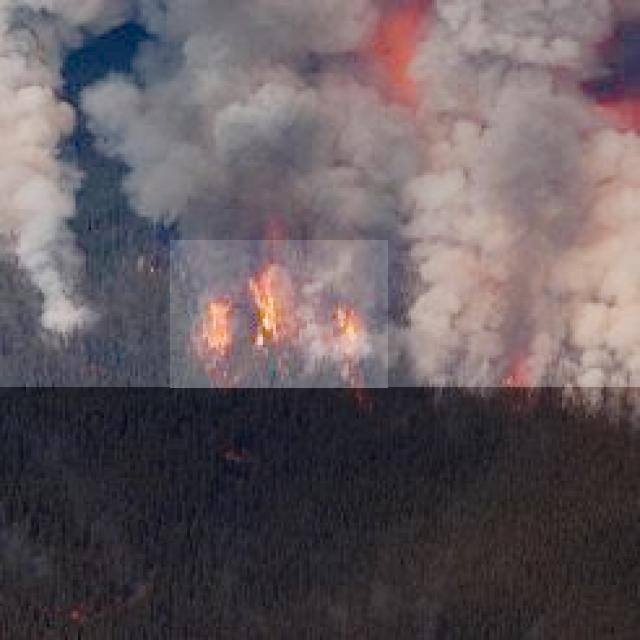Fire: (170, 240, 388, 388)
Smoke: (0, 0, 640, 387)
